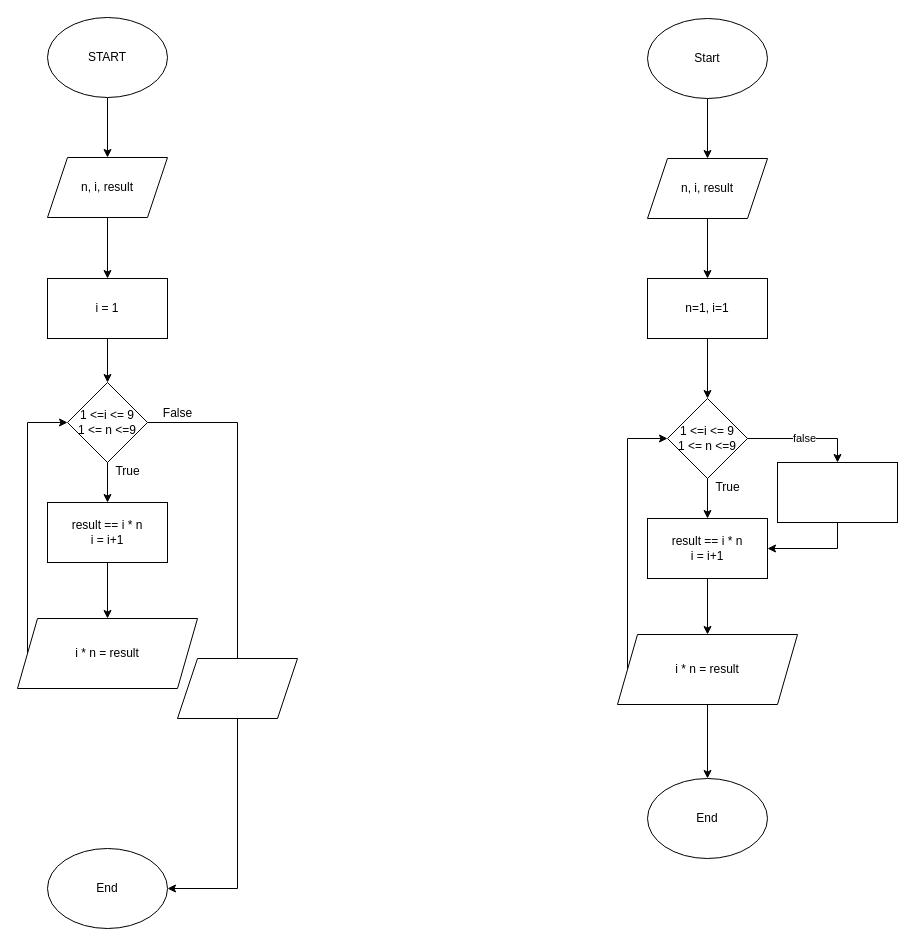
This 915x946 diagram has some shape labels left out. The shapes that lost their labels are listed below. From the top down, each one's box as (x1, y1, x2, y2) in pixels, then its label:
(776, 462, 898, 522): n=n+1, i=1
(176, 658, 298, 718): Bang cuu chuong
